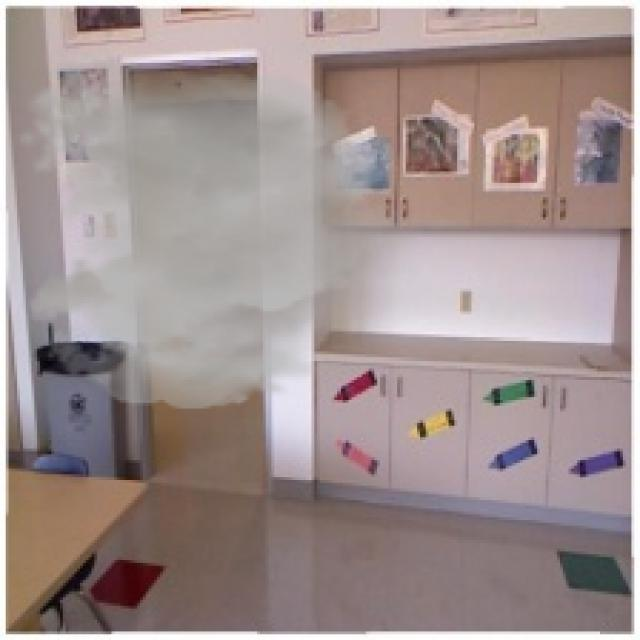Smoke: (14, 57, 434, 409)
